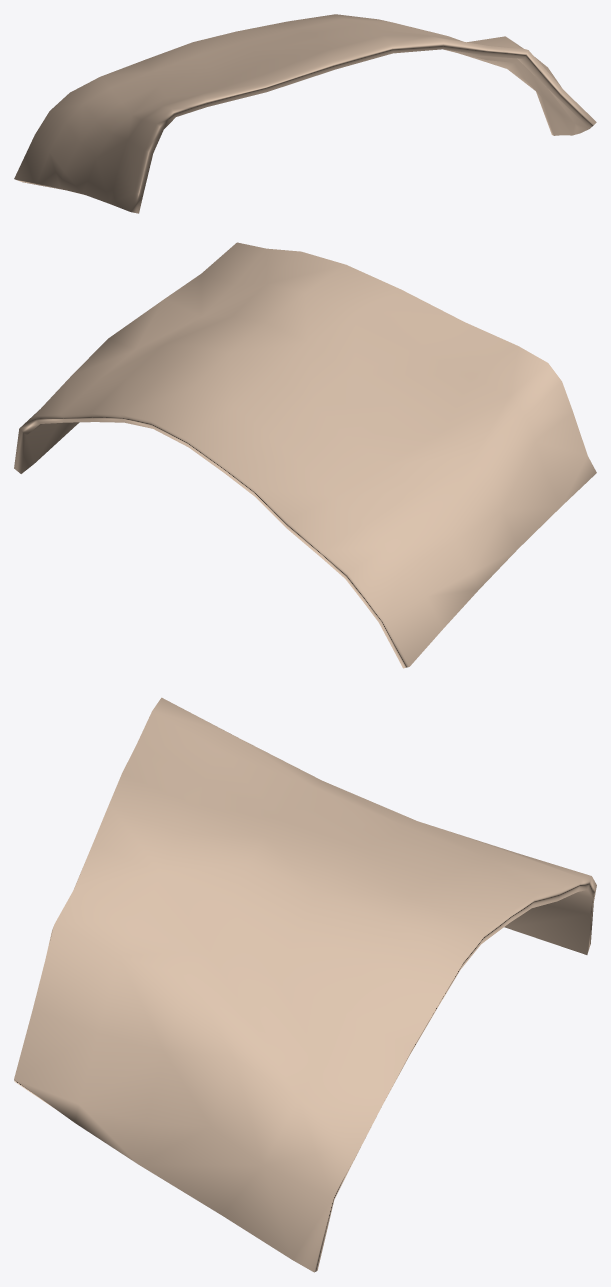
The picture shows the model from 3 angles, top to bottom: view 1: azimuth 30°, elevation 25°; view 2: azimuth 150°, elevation 25°; view 3: azimuth 270°, elevation 25°; orthographic projection. The views are drawn at different scales.
Parts seen in each view (by area): view 1: 左侧腕伸肌支持带; view 2: 左侧腕伸肌支持带; view 3: 左侧腕伸肌支持带.
Boxes of the visible parts, left/top/right/bottom form: 左侧腕伸肌支持带: left=14, top=14, right=596, bottom=213; 左侧腕伸肌支持带: left=14, top=242, right=596, bottom=668; 左侧腕伸肌支持带: left=14, top=697, right=596, bottom=1272.
Size of the model in its own units: 0.0849 by 0.0341 by 0.0589.
